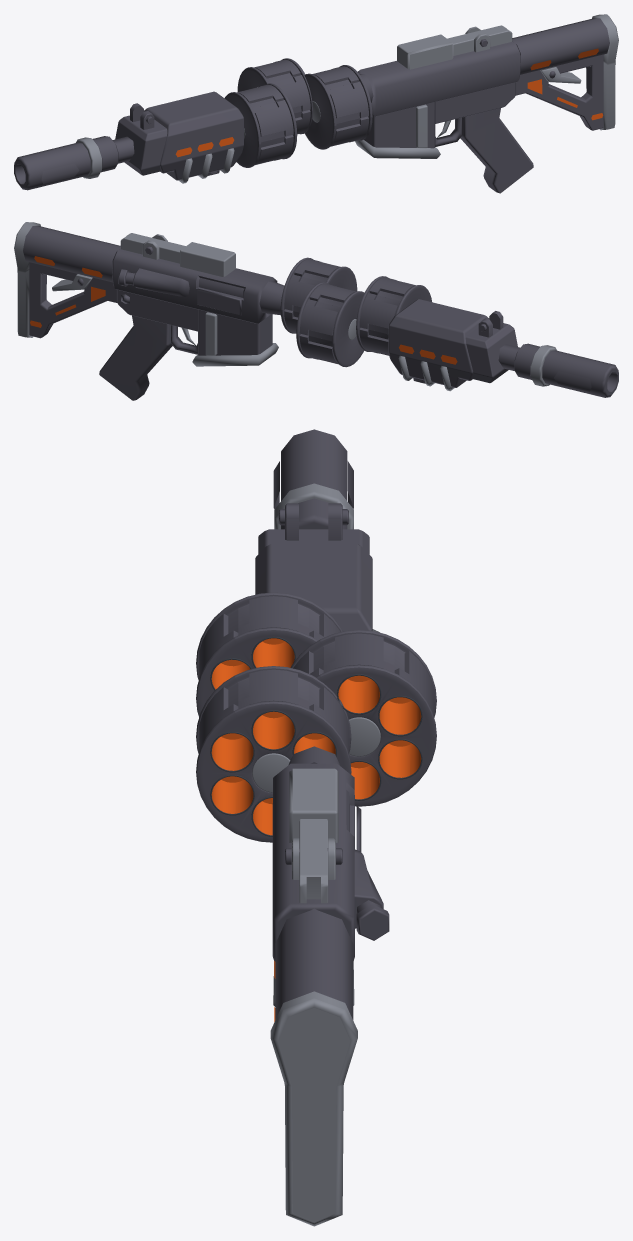
File: gun_3.fbx
3 views of the same model, one above another, from view 1: azimuth 30°, elevation 25°; view 2: azimuth 150°, elevation 25°; view 3: azimuth 270°, elevation 25° (orthographic). The views are drawn at different scales.
Visible parts, largest first — view 1: gun, 6, 6.002, 5, 5.002, 1, 1.001, 1.002, 6.001, 4, 5.001; view 2: gun, 2.001, 2.002, 3.001, 1.001, 1, 1.002, 2, 3.002, 4.001, 3; view 3: gun, 1, 1.001, 1.002, 2.001, 6, 6.002, 2, 5, 3.001, 4.001, 4.
Part boxes in pixels (box(x1,y1,x2,y2)): gun: box(14, 14, 618, 193); 6: box(318, 79, 372, 125); 6.002: box(244, 98, 297, 144); 5: box(318, 116, 372, 149); 5.002: box(243, 134, 297, 167); 1: box(305, 65, 362, 104); 1.001: box(247, 58, 304, 88); 1.002: box(230, 83, 287, 118); 6.001: box(265, 73, 312, 113); 4: box(305, 119, 360, 149); 5.001: box(294, 109, 312, 134); gun: box(14, 222, 618, 400); 2.001: box(296, 297, 350, 343); 2.002: box(356, 290, 406, 334); 3.001: box(296, 334, 350, 366); 1.001: box(306, 282, 363, 322); 1: box(290, 257, 347, 287); 1.002: box(366, 276, 422, 306); 2: box(280, 272, 329, 312); 3.002: box(356, 327, 388, 355); 4.001: box(308, 336, 363, 367); 3: box(280, 309, 299, 333); gun: box(255, 429, 389, 1226); 1: box(234, 666, 312, 755); 1.001: box(320, 630, 398, 719); 1.002: box(234, 592, 312, 668); 2.001: box(370, 640, 436, 737); 6: box(196, 676, 262, 773); 6.002: box(196, 602, 253, 699); 2: box(285, 676, 351, 773); 5: box(196, 737, 262, 832); 3.001: box(370, 701, 436, 797); 4.001: box(349, 754, 397, 806); 4: box(235, 790, 272, 842).
Size of the model in its own units: 1411 by 384 by 250.
